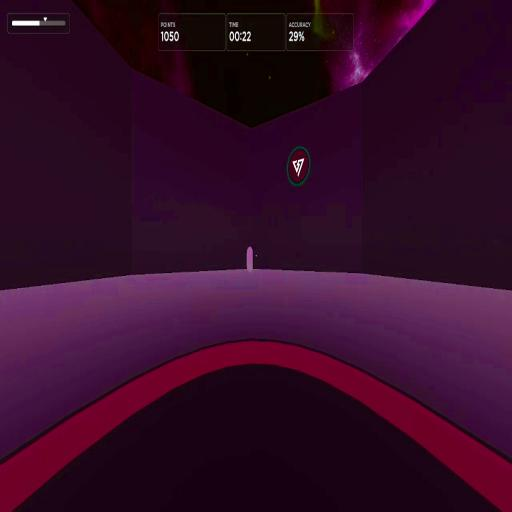Crosshair: (255, 254, 257, 257)
Target: (246, 245, 253, 273)
